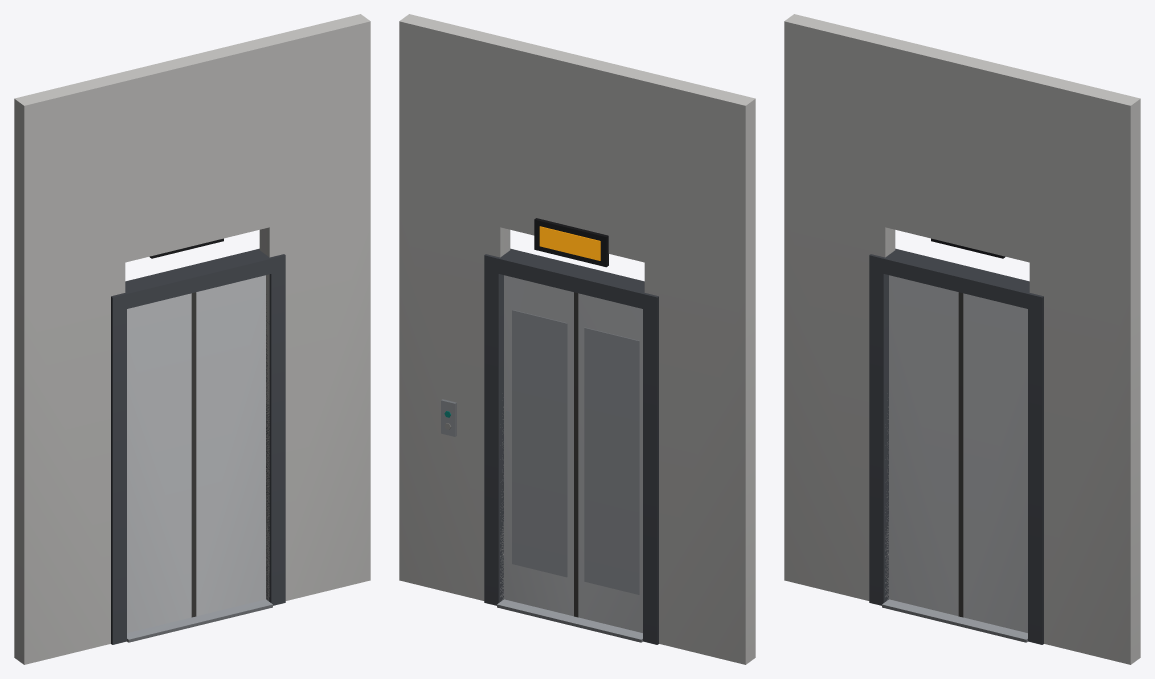
The model's file is elevator_door_frame_01.glb.
3 renders of one model, left to right at view 1: azimuth 30°, elevation 25°; view 2: azimuth 150°, elevation 25°; view 3: azimuth 330°, elevation 25°, orthographic.
Visible parts, largest first — view 1: elevator_door_frame_01_mesh, elevator_door_frame_01_door_r_mesh, elevator_door_frame_01_door_l_mesh; view 2: elevator_door_frame_01_mesh, elevator_door_frame_01_door_r_mesh, elevator_door_frame_01_door_l_mesh, elevator_door_frame_01_led; view 3: elevator_door_frame_01_mesh, elevator_door_frame_01_door_l_mesh, elevator_door_frame_01_door_r_mesh.
Boxes of the visible parts, bbox=[...] form: elevator_door_frame_01_mesh: bbox=[14, 14, 370, 664]; elevator_door_frame_01_door_r_mesh: bbox=[194, 275, 265, 616]; elevator_door_frame_01_door_l_mesh: bbox=[127, 293, 193, 632]; elevator_door_frame_01_mesh: bbox=[399, 14, 755, 664]; elevator_door_frame_01_door_r_mesh: bbox=[504, 275, 575, 616]; elevator_door_frame_01_door_l_mesh: bbox=[576, 293, 642, 632]; elevator_door_frame_01_led: bbox=[539, 226, 600, 260]; elevator_door_frame_01_mesh: bbox=[784, 14, 1140, 664]; elevator_door_frame_01_door_l_mesh: bbox=[889, 275, 960, 616]; elevator_door_frame_01_door_r_mesh: bbox=[961, 293, 1027, 632].
Bounding box in the file's own units: 2.4 × 3.7 × 0.2001.
Materials: 2 (2 with a texture image).
